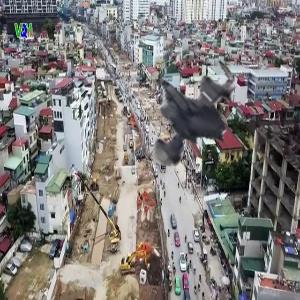drone: (139, 64, 275, 200)
